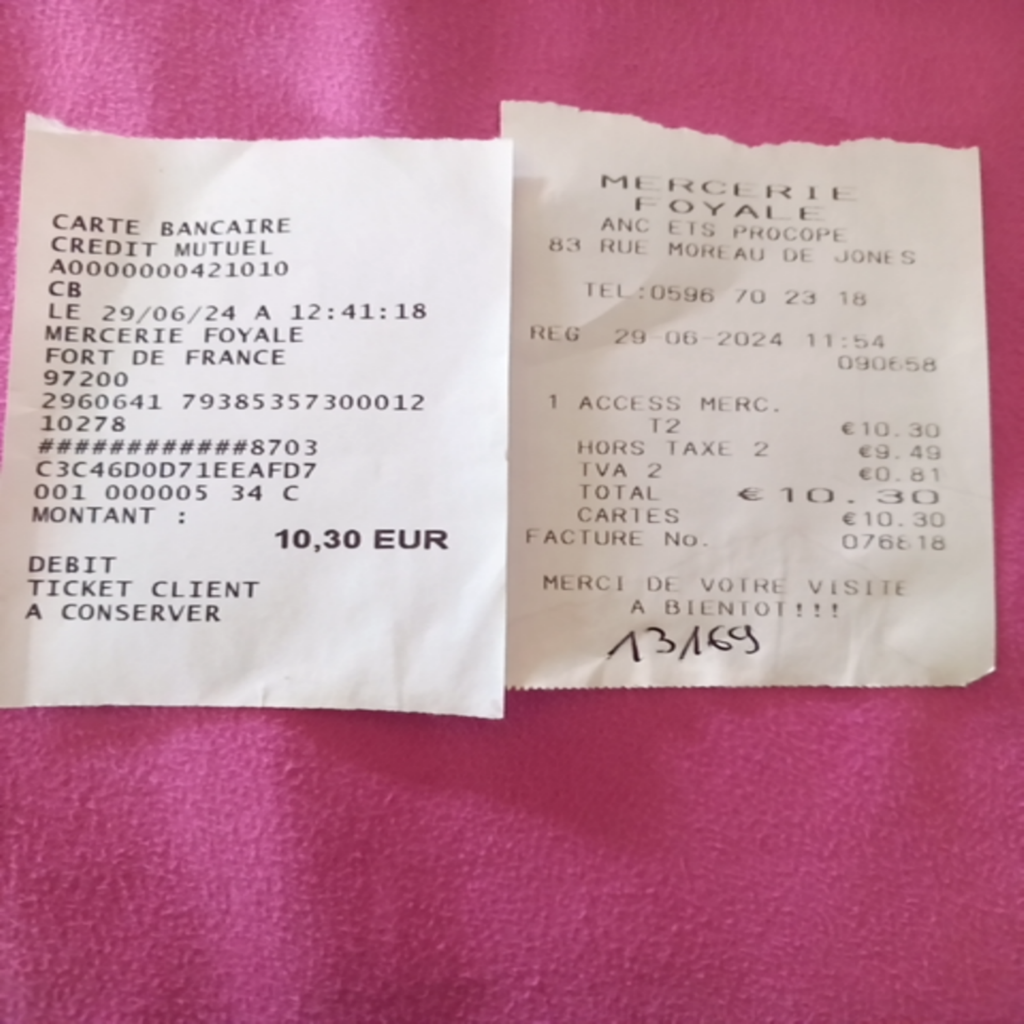recipt: (2, 97, 999, 722)
